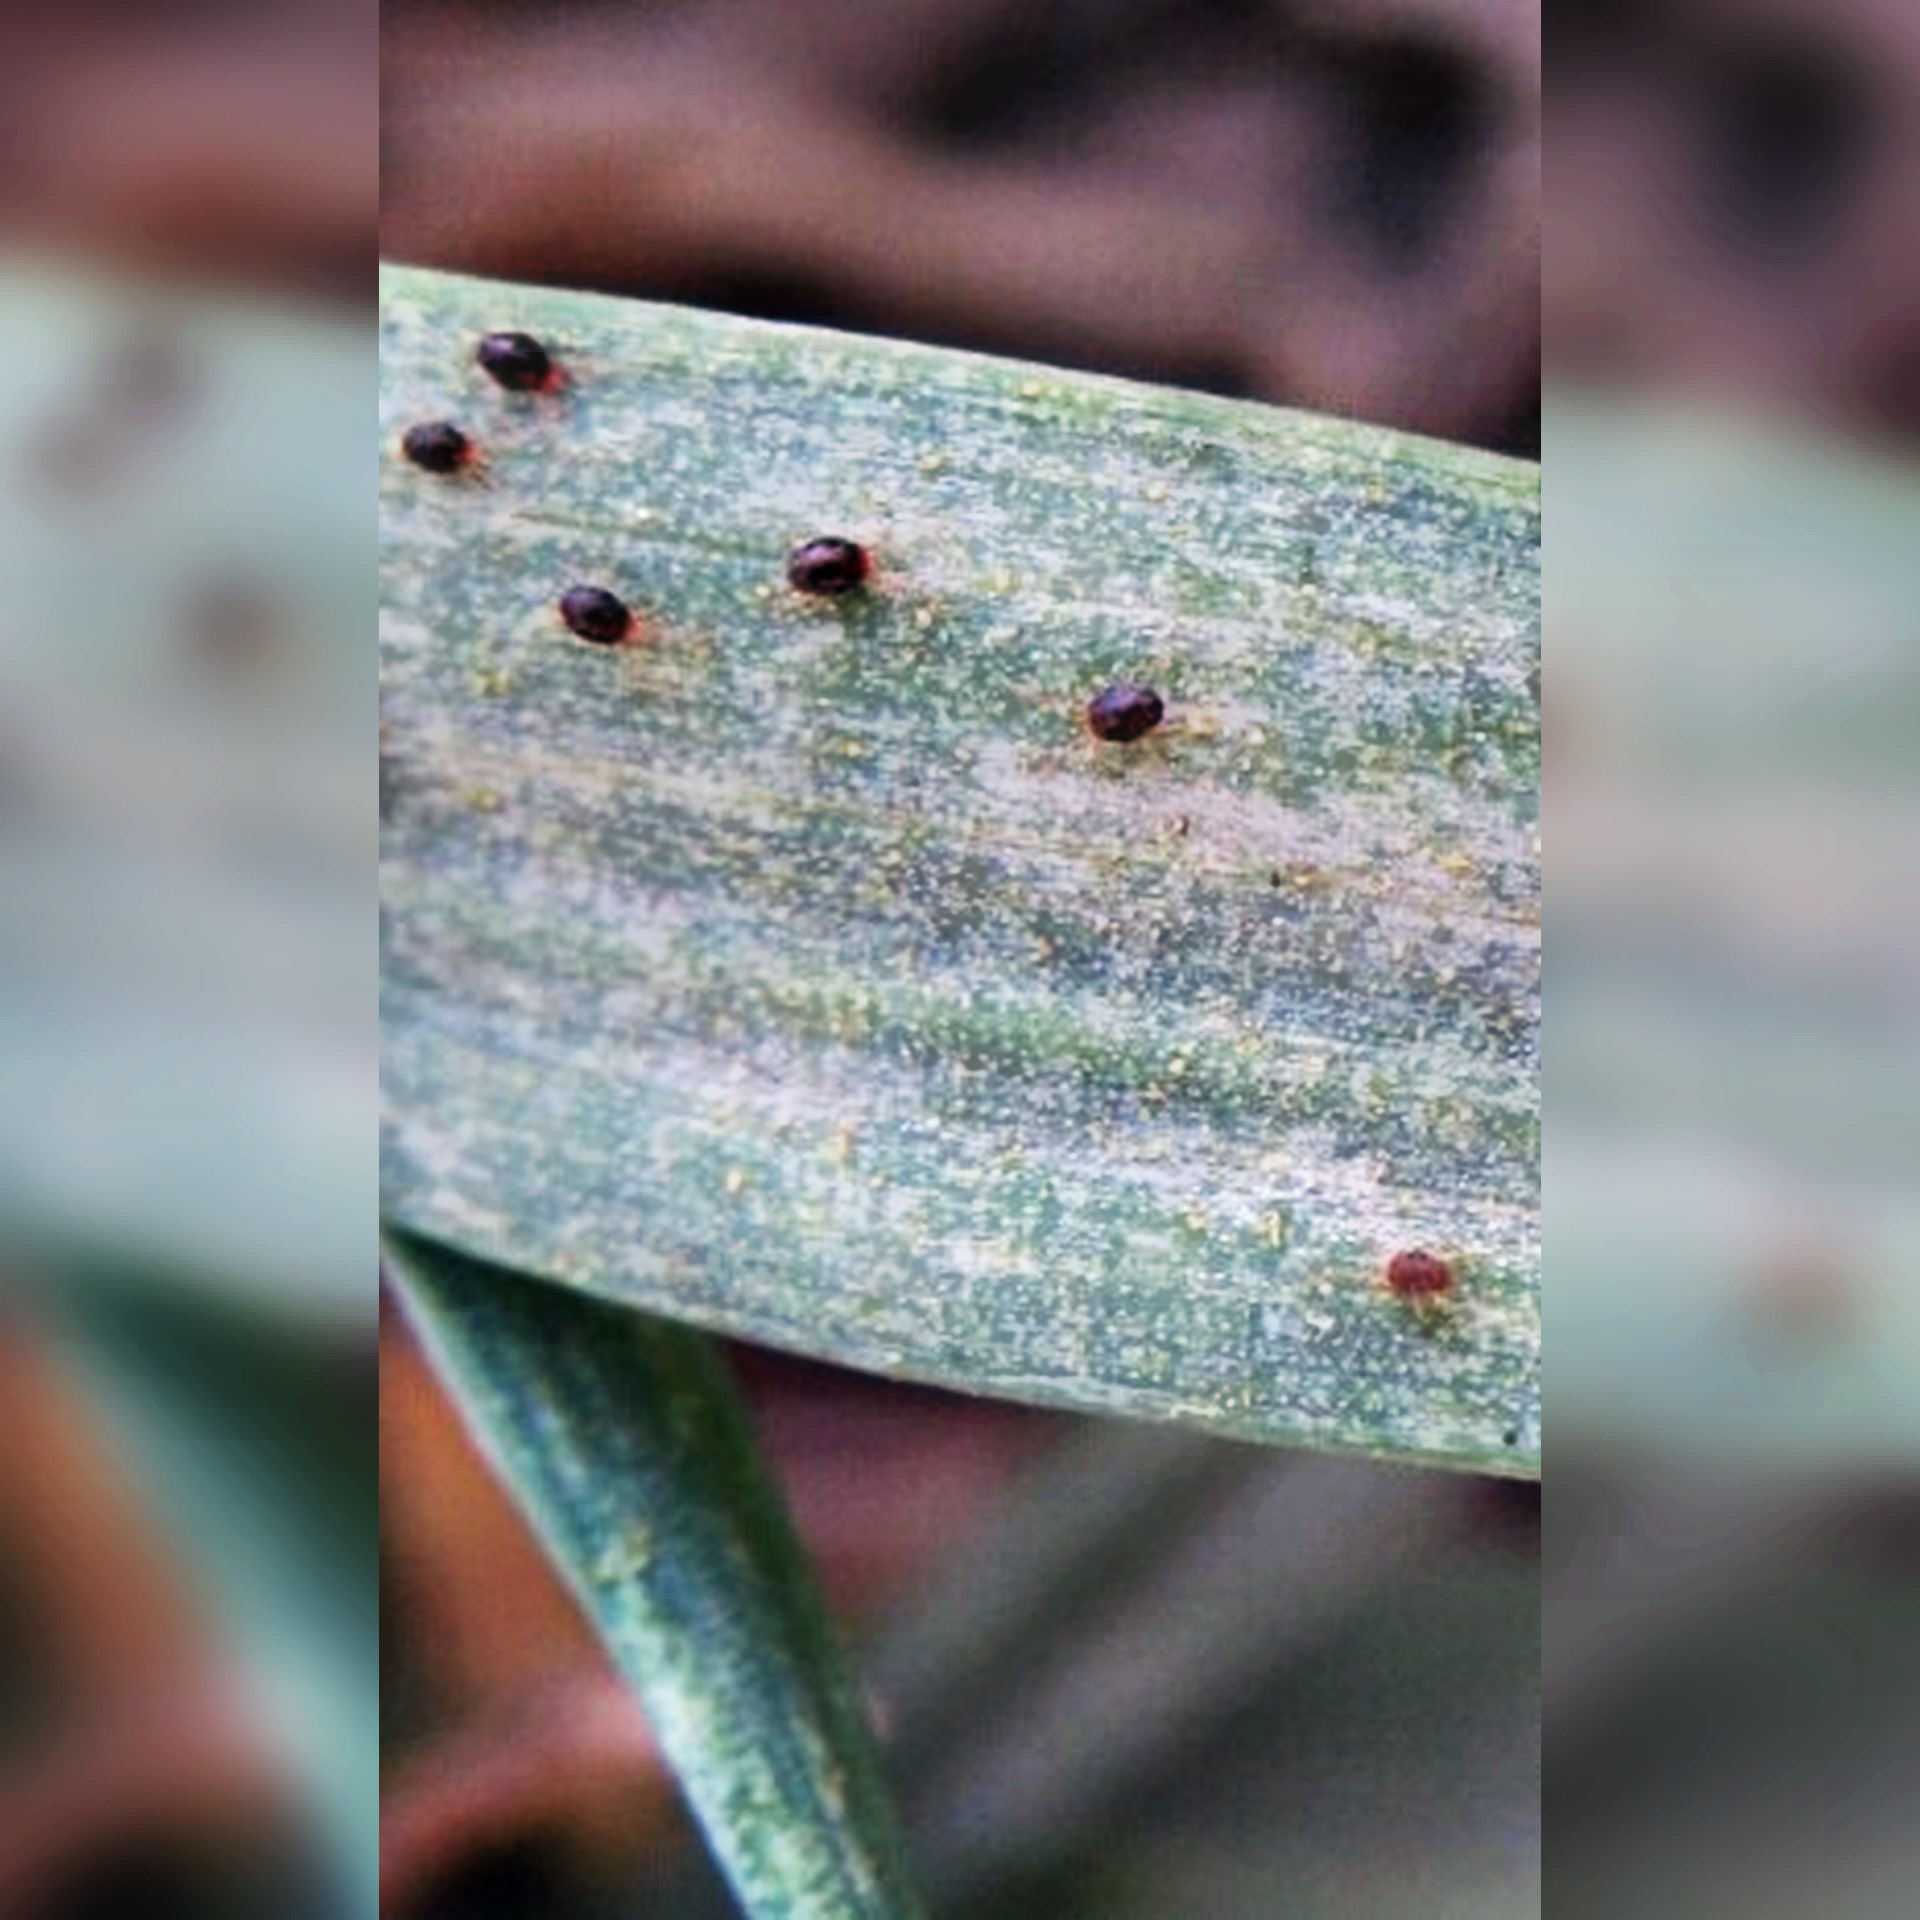Wheat Red Spider: (999, 638, 1225, 788)
